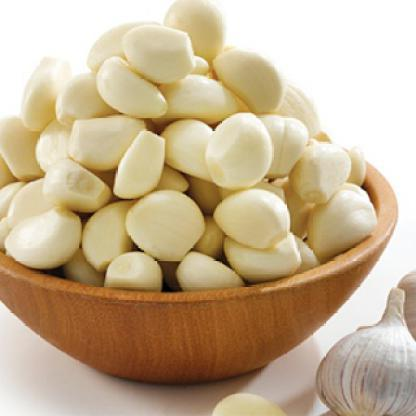garlic: (304, 307, 415, 415), (128, 187, 206, 259), (208, 40, 285, 110), (202, 117, 270, 195), (208, 192, 300, 244), (310, 184, 378, 252), (148, 76, 237, 124), (119, 25, 196, 80), (104, 57, 168, 121), (290, 136, 349, 203), (114, 132, 169, 200), (17, 206, 74, 270), (25, 60, 76, 128), (96, 244, 156, 298), (46, 156, 110, 206), (180, 245, 230, 304), (56, 75, 116, 116)
